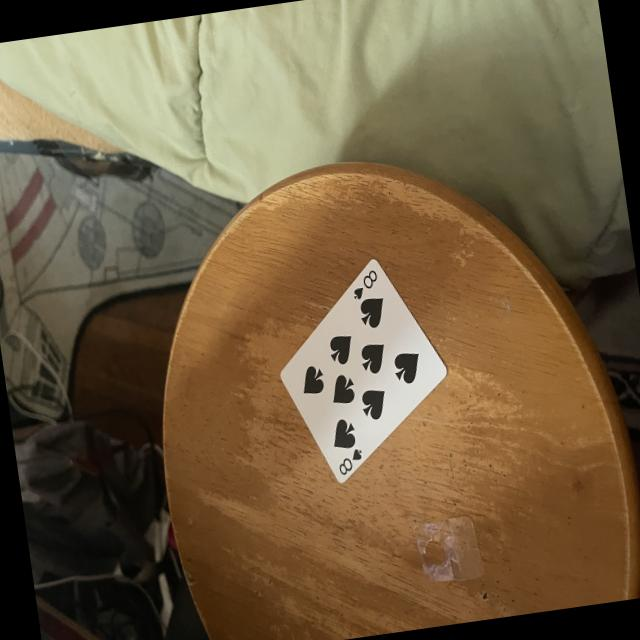8 of spades: (276, 251, 450, 482)
